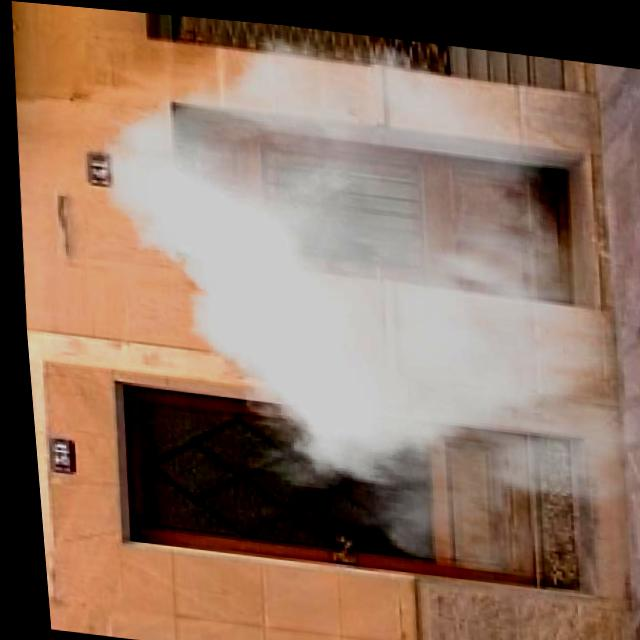Smoke: (97, 7, 640, 577)
